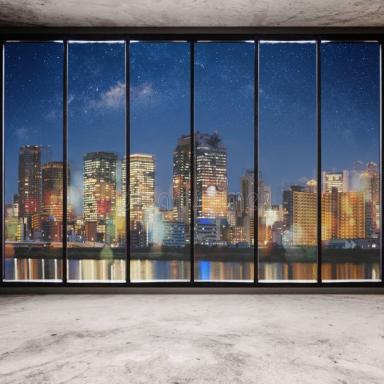glass_panel: (193, 41, 255, 281), (129, 42, 191, 281), (66, 42, 126, 282), (3, 42, 63, 281), (258, 41, 317, 281), (321, 43, 380, 280)
